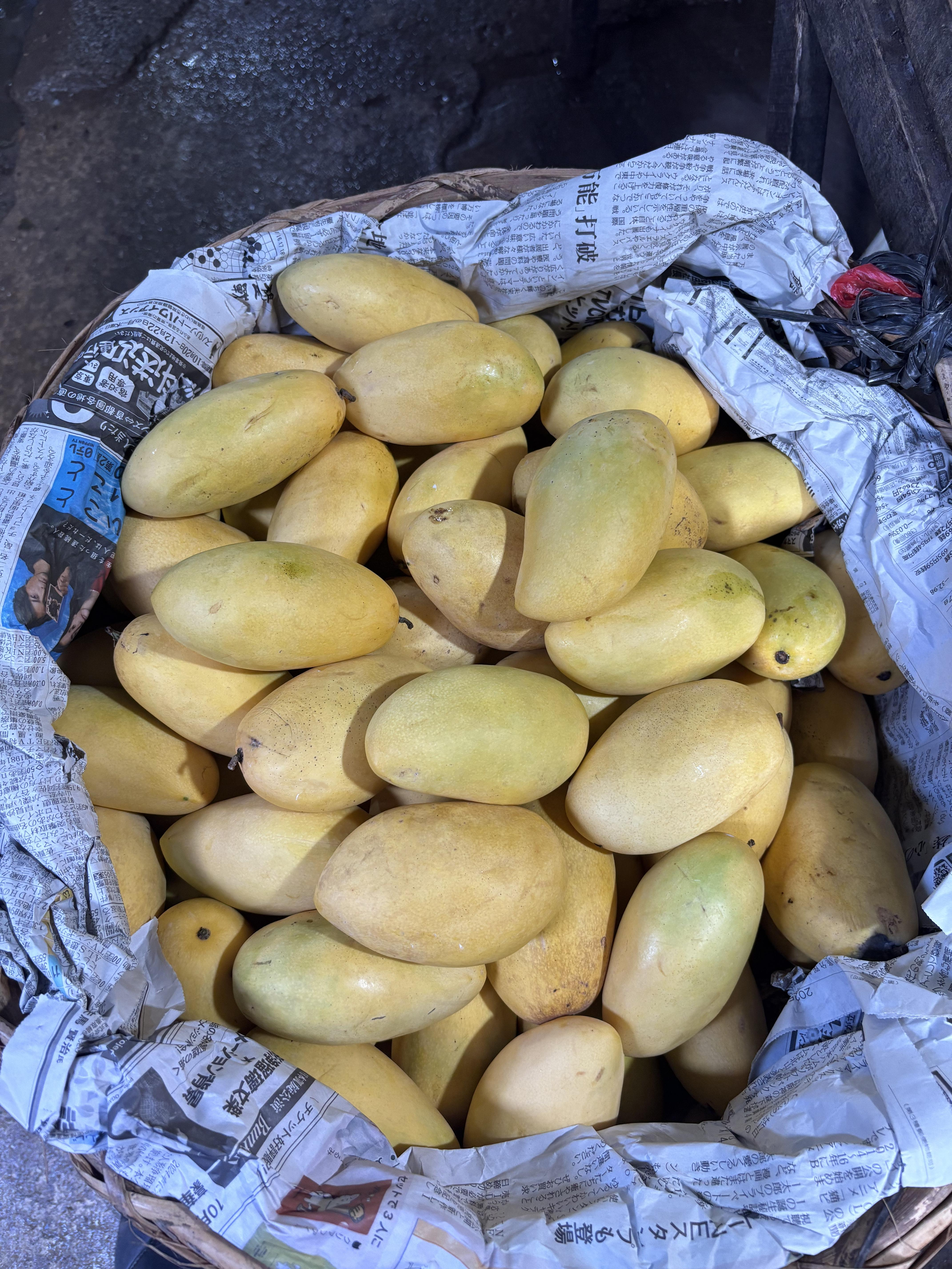mango: (315, 801, 567, 967), (566, 680, 787, 855), (602, 832, 764, 1057), (514, 410, 676, 625), (122, 369, 344, 518), (152, 541, 398, 671), (364, 665, 589, 805), (335, 321, 543, 445)
occluded: (232, 910, 485, 1044), (546, 548, 765, 695), (762, 763, 918, 961), (237, 652, 430, 812), (487, 787, 617, 1024), (250, 1030, 458, 1154), (160, 794, 368, 916), (114, 614, 291, 756), (403, 500, 547, 653), (55, 684, 219, 816), (464, 1016, 624, 1147), (391, 980, 517, 1143), (276, 253, 478, 353), (541, 348, 720, 456), (388, 427, 527, 563), (268, 431, 398, 564), (728, 544, 845, 680), (678, 441, 818, 551), (666, 965, 767, 1114), (110, 510, 251, 616), (814, 530, 905, 694), (498, 649, 639, 748), (158, 898, 253, 1030), (709, 732, 794, 859), (790, 672, 878, 791), (378, 576, 488, 670), (94, 807, 166, 934), (212, 333, 346, 387), (709, 660, 792, 732), (489, 314, 562, 385), (221, 480, 287, 540), (562, 321, 649, 366), (658, 471, 708, 549), (512, 447, 551, 515), (368, 785, 448, 817)
